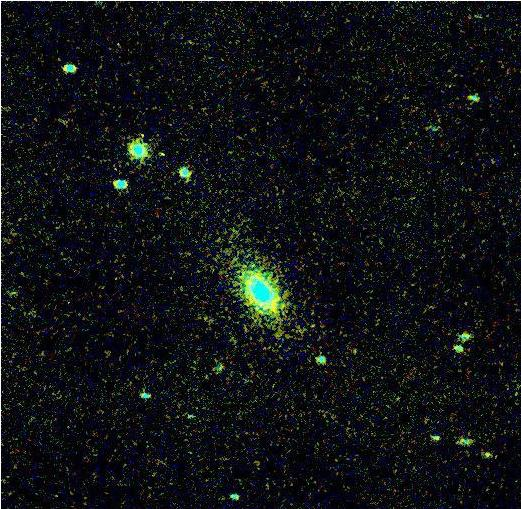star: (479, 443, 509, 473)
